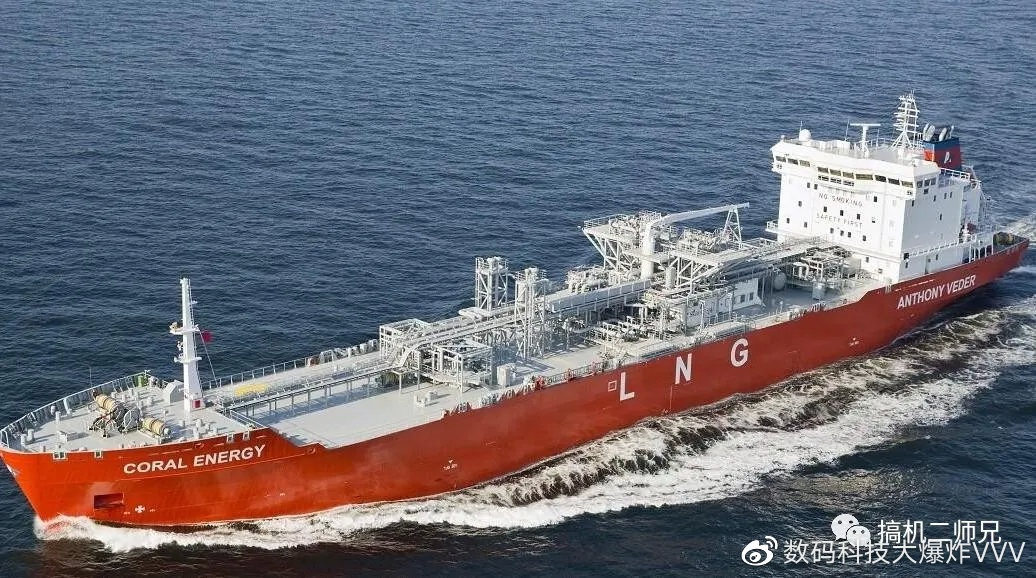Cargoship: (1, 87, 1030, 542)
